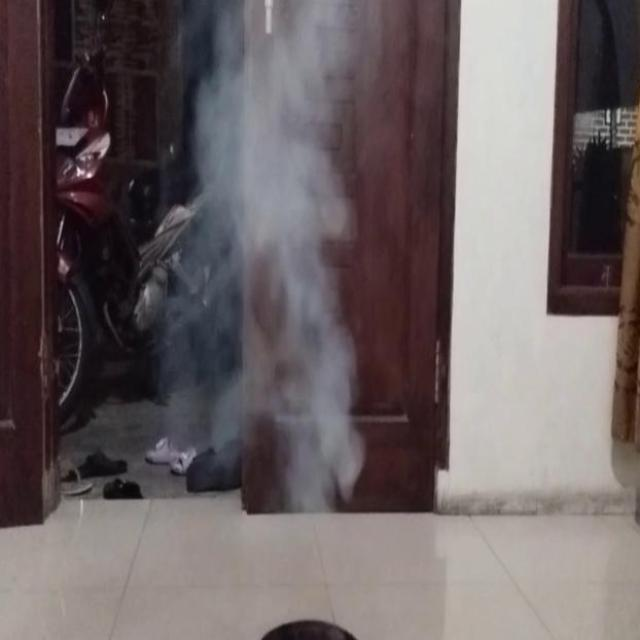fire: (184, 0, 351, 517)
